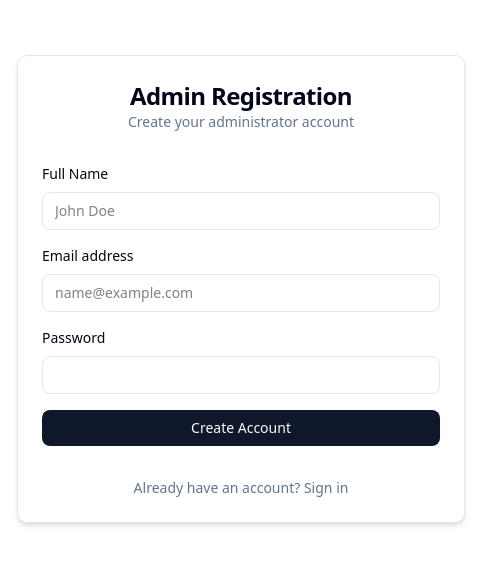
Test: AdminSignupPage › shows error if mutation throws
The width and height of the screenshot is (483, 583).
Type "Admin User" into the field labelled "Full Name".
click(241, 211); type("Admin User")  # box [42, 192, 440, 230]
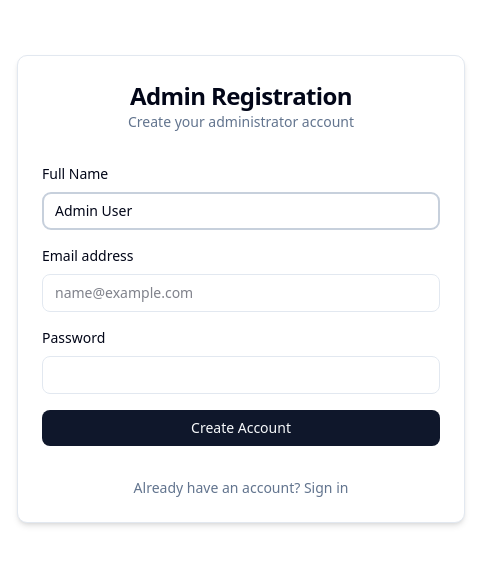
Type "admin@example.com" into the field labelled "Email address".
click(241, 293); type("admin@example.com")  # box [42, 274, 440, 312]
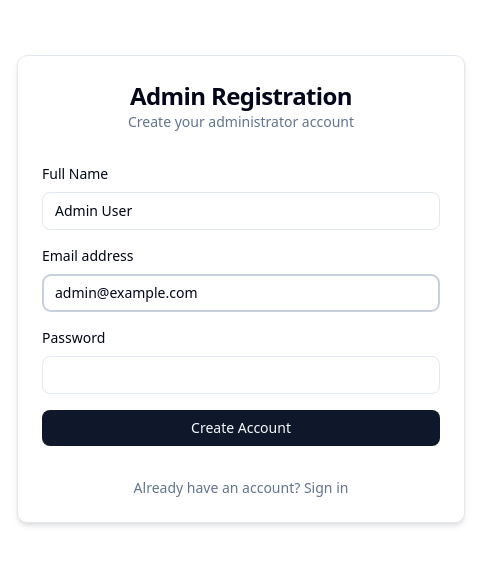
Type "password123" into the password field labelled "Password".
click(241, 375); type("password123")  # box [42, 356, 440, 394]
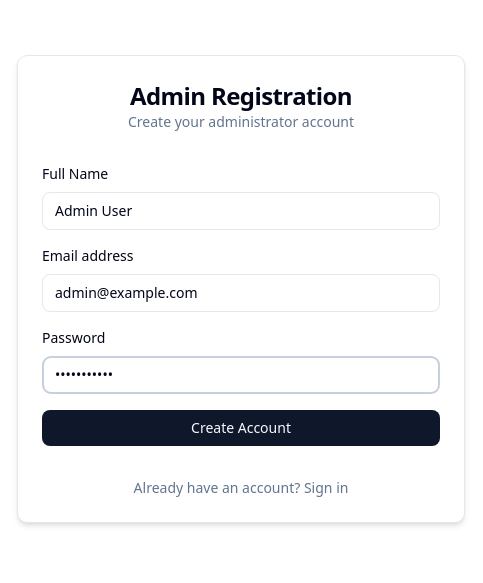
Click the button "Create Account".
click(241, 428)  # box [42, 410, 440, 446]
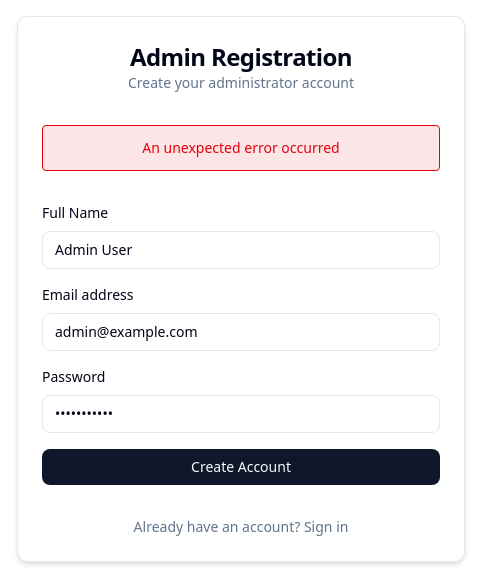
Check: the text "An unexpected error occurred" is shown, box [42, 125, 440, 171]
